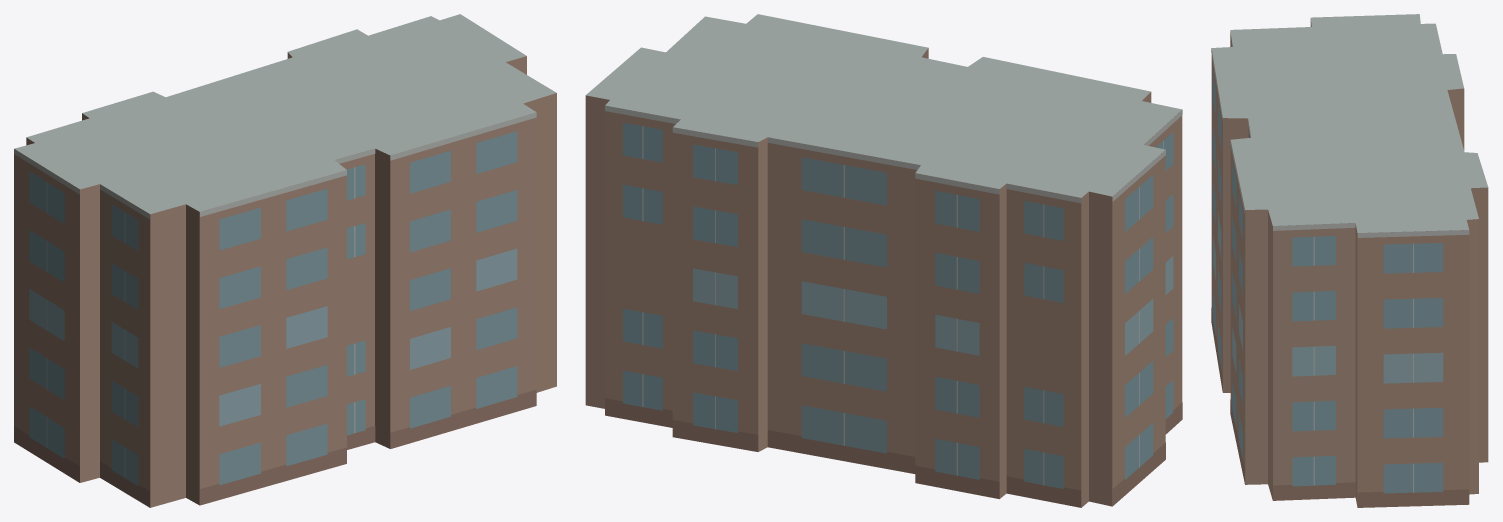
Rendered from survey-upis-32626121.glb.
3 renders of one model, left to right at view 1: azimuth 30°, elevation 25°; view 2: azimuth 150°, elevation 25°; view 3: azimuth 270°, elevation 25°, orthographic. The views are drawn at different scales.
Parts seen in each view (by area): view 1: survey-upis-32626121.tmp; view 2: survey-upis-32626121.tmp; view 3: survey-upis-32626121.tmp.
Boxes of the visible parts, x1,y1,x2,y2 form: survey-upis-32626121.tmp: [14, 14, 556, 507]; survey-upis-32626121.tmp: [585, 14, 1182, 507]; survey-upis-32626121.tmp: [1211, 14, 1488, 507].
Size of the model in its own units: 23.43 by 13.7 by 12.52.
